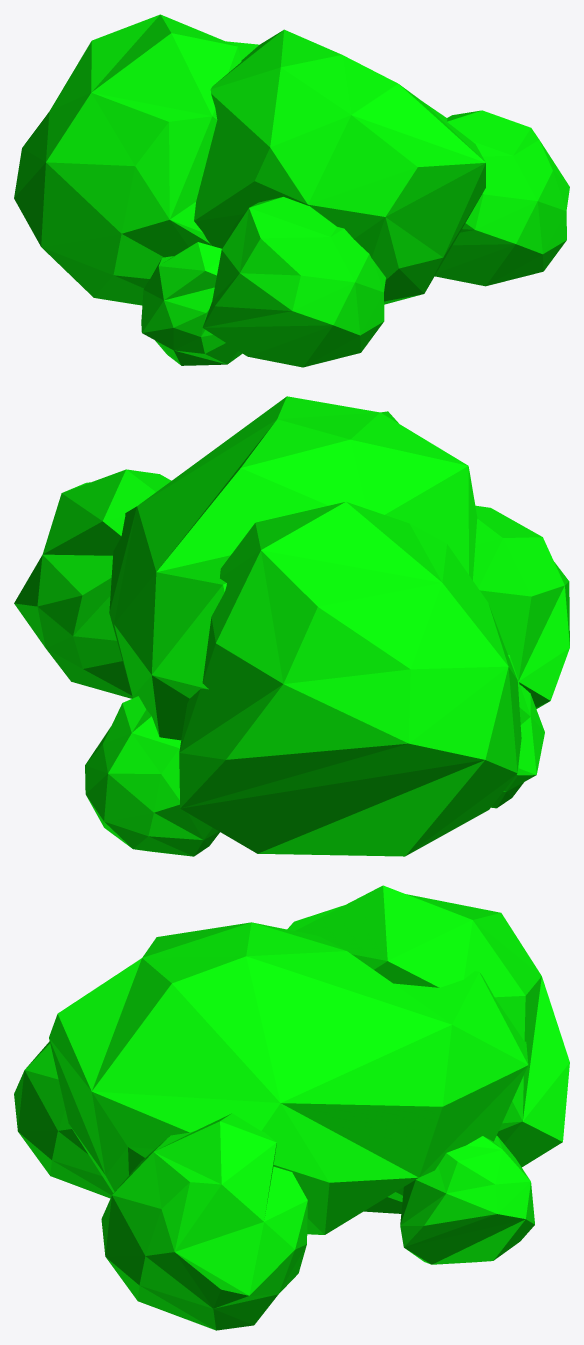
Rendered from SM_Bush_03.fbx.
The picture shows the model from 3 angles, top to bottom: view 1: azimuth 30°, elevation 25°; view 2: azimuth 150°, elevation 25°; view 3: azimuth 270°, elevation 25°; orthographic projection. The views are drawn at different scales.
Visible parts, largest first — view 1: Bush_03; view 2: Bush_03; view 3: Bush_03.
Boxes of the visible parts, <box> form: Bush_03: <box>14,14,569,367</box>; Bush_03: <box>14,396,569,856</box>; Bush_03: <box>14,885,569,1330</box>.
Size of the model in its own units: 868 by 494 by 799.
